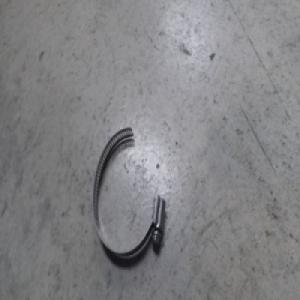AdjustableClamp: (91, 125, 169, 256)
